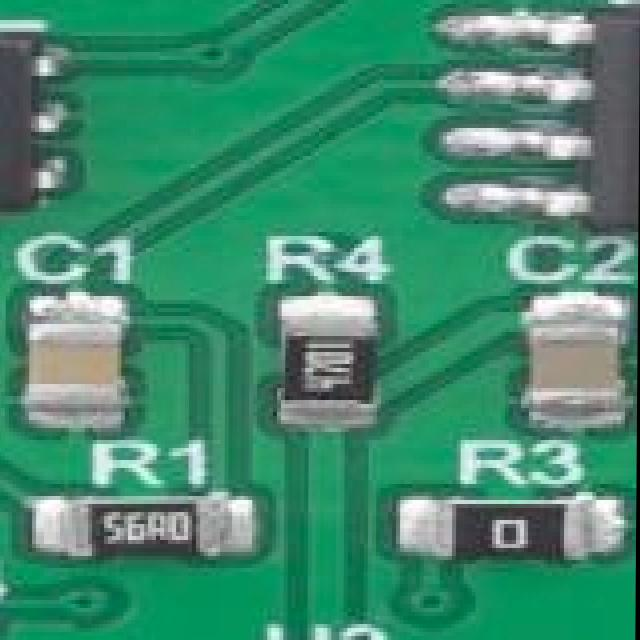IC: (499, 16, 640, 216), (0, 32, 60, 200)
capacitor: (530, 304, 630, 426), (26, 308, 130, 422)
resistor: (49, 500, 239, 554), (278, 304, 364, 420), (409, 512, 581, 560)
